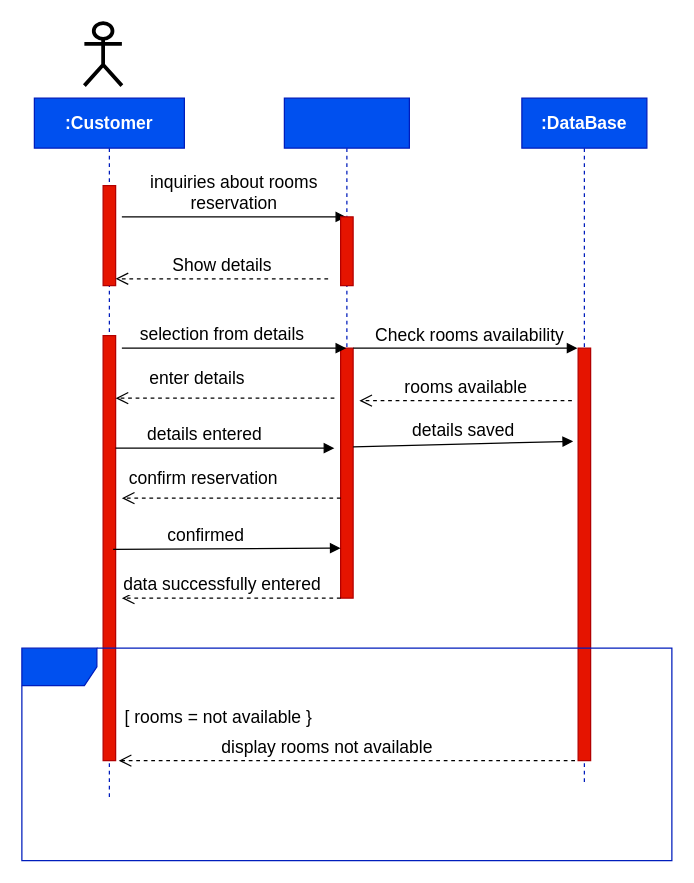
Some shapes in this 694 by 883 pixel diagram are drawn without their labels. The box of each missing label's shape, as (x1, y1, x2, y2) in pixels:
:server: (283, 97, 409, 598)
Alt: (21, 647, 672, 861)
